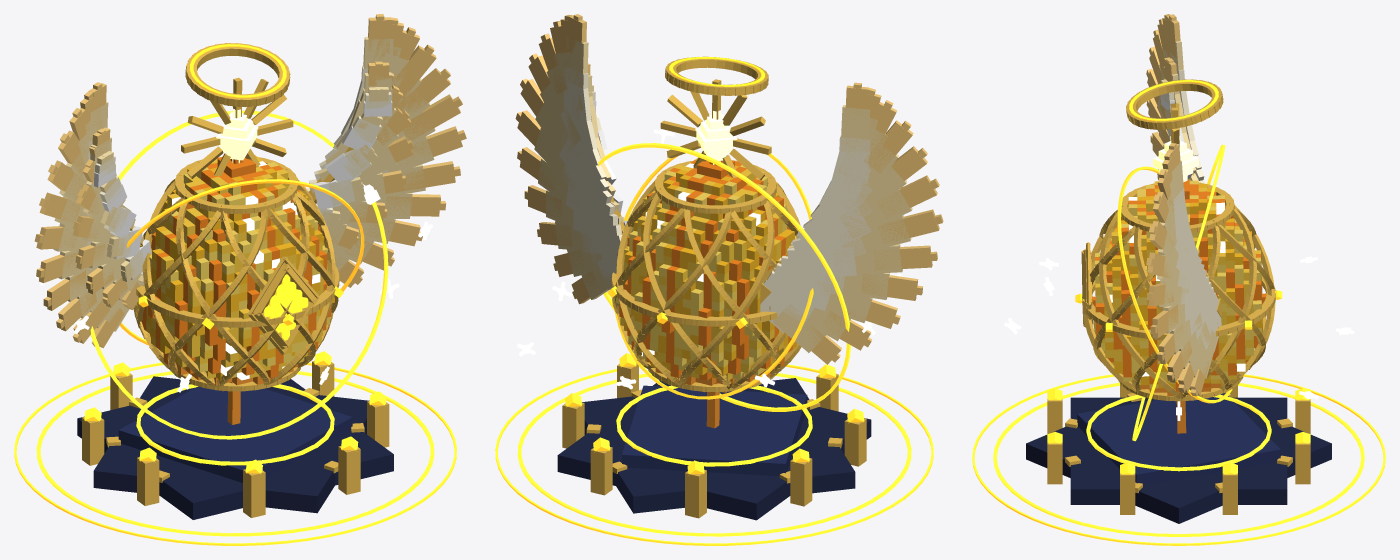
Rendered from egg_leg_sol.glb.
3 renders of one model, left to right at view 1: azimuth 30°, elevation 25°; view 2: azimuth 150°, elevation 25°; view 3: azimuth 270°, elevation 25°, orthographic. The views are drawn at different scales.
Visible parts, largest first — view 1: root_geo, wing_L_geo, shell_geo, wing_R_geo, egg_geo, floor_rings_geo, crown_geo, orbit1_geo, emblem_geo, halo_geo, orbit2_geo; view 2: root_geo, wing_R_geo, shell_geo, wing_L_geo, egg_geo, floor_rings_geo, crown_geo, orbit1_geo, halo_geo, orbit2_geo; view 3: root_geo, shell_geo, egg_geo, wing_L_geo, floor_rings_geo, wing_R_geo, halo_geo, orbit2_geo, orbit1_geo, crown_geo, emblem_geo.
Part boxes in pixels (bbox=[...]): root_geo: bbox=[77, 351, 393, 519]; wing_L_geo: bbox=[306, 14, 466, 287]; shell_geo: bbox=[137, 155, 334, 424]; wing_R_geo: bbox=[34, 82, 151, 348]; egg_geo: bbox=[133, 157, 343, 391]; floor_rings_geo: bbox=[14, 362, 456, 545]; crown_geo: bbox=[181, 77, 293, 178]; orbit1_geo: bbox=[90, 110, 388, 439]; emblem_geo: bbox=[248, 256, 319, 354]; halo_geo: bbox=[185, 43, 290, 106]; orbit2_geo: bbox=[120, 179, 364, 345]; root_geo: bbox=[557, 353, 871, 520]; wing_R_geo: bbox=[755, 82, 943, 364]; shell_geo: bbox=[616, 157, 797, 428]; wing_L_geo: bbox=[515, 14, 629, 304]; egg_geo: bbox=[607, 160, 801, 392]; floor_rings_geo: bbox=[495, 364, 933, 545]; crown_geo: bbox=[660, 79, 771, 179]; orbit1_geo: bbox=[597, 143, 851, 411]; halo_geo: bbox=[665, 56, 768, 95]; orbit2_geo: bbox=[614, 153, 813, 399]; root_geo: bbox=[1026, 383, 1331, 523]; shell_geo: bbox=[1092, 180, 1266, 433]; egg_geo: bbox=[1075, 182, 1282, 401]; wing_L_geo: bbox=[1146, 143, 1221, 396]; floor_rings_geo: bbox=[972, 374, 1385, 545]; wing_R_geo: bbox=[1146, 14, 1205, 183]; halo_geo: bbox=[1126, 79, 1223, 129]; orbit2_geo: bbox=[1117, 166, 1232, 403]; orbit1_geo: bbox=[1132, 144, 1225, 441]; crown_geo: bbox=[1153, 103, 1198, 182]; emblem_geo: bbox=[1081, 242, 1092, 327].
Size of the model in its own units: 10.64 by 9.57 by 9.46.
